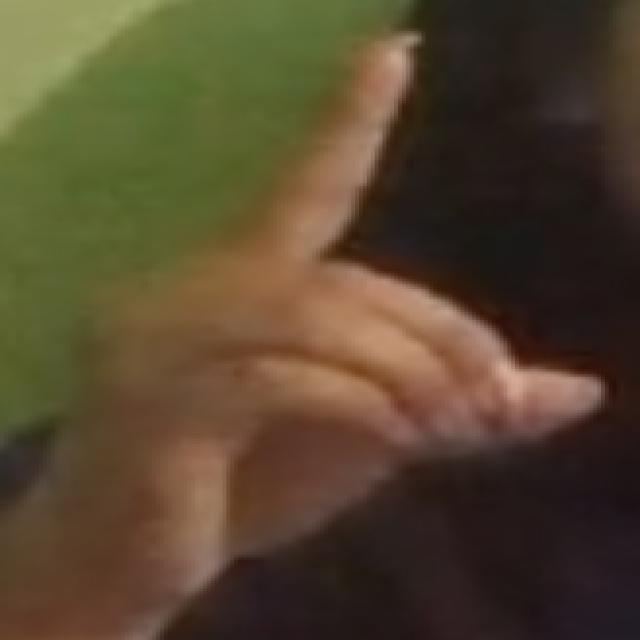D: (29, 23, 609, 610)
